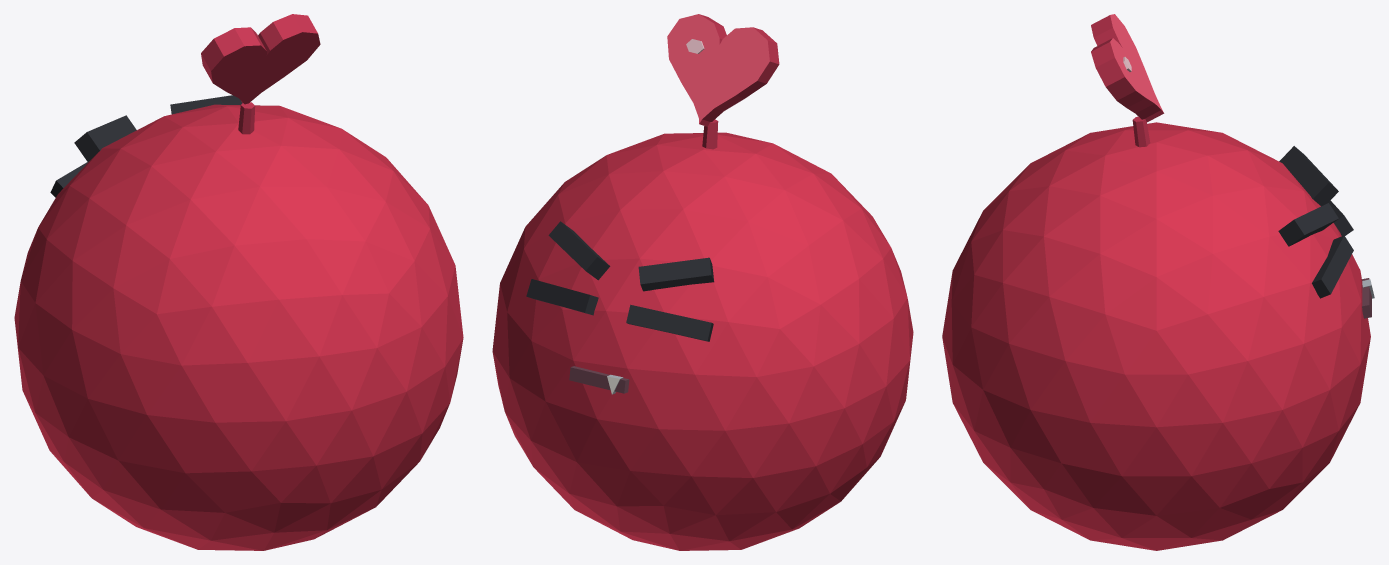
The model's file is CH_Cano_T3_Blink.fbx.
3 views of the same model, side by side, from view 1: azimuth 30°, elevation 25°; view 2: azimuth 150°, elevation 25°; view 3: azimuth 270°, elevation 25° (orthographic). The views are drawn at different scales.
Parts seen in each view (by area): view 1: CH_Cano_T3_Blink; view 2: CH_Cano_T3_Blink; view 3: CH_Cano_T3_Blink.
Part boxes in pixels (bbox=[...]): CH_Cano_T3_Blink: bbox=[14, 14, 463, 550]; CH_Cano_T3_Blink: bbox=[492, 14, 913, 550]; CH_Cano_T3_Blink: bbox=[942, 14, 1374, 550].
Bounding box in the file's own units: 1 × 1.29 × 1.01.
